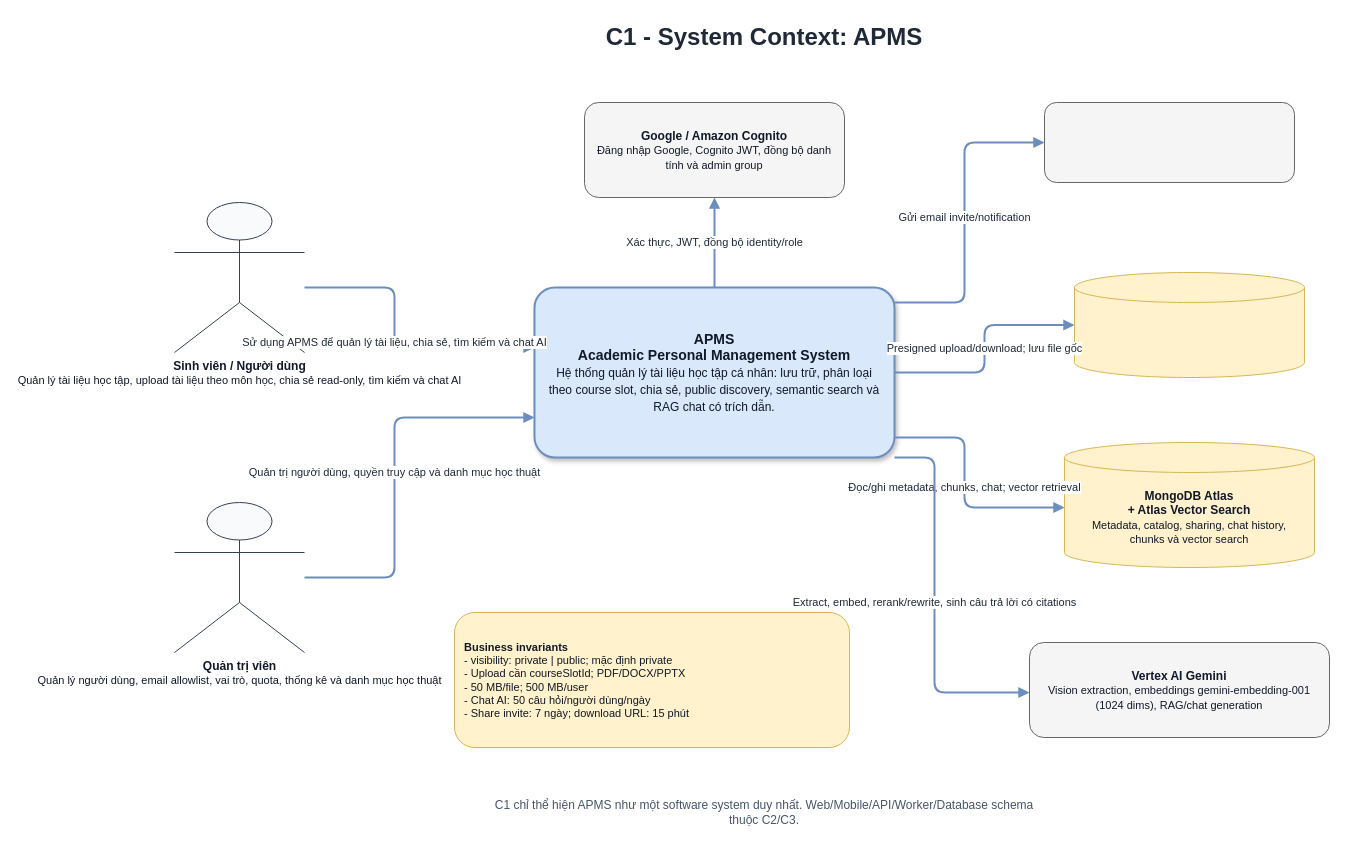
The diagram is 1347 pixels wide and 849 high, and some of its shapes have lost their labels. Here are the shapes that lost their labels. From the top down, the centre of each, then its label:
point (1169, 142): Amazon SES Gửi email mời chia sẻ và thông báo
point (1189, 325): Amazon S3 Lưu file gốc; presigned upload/download URL
